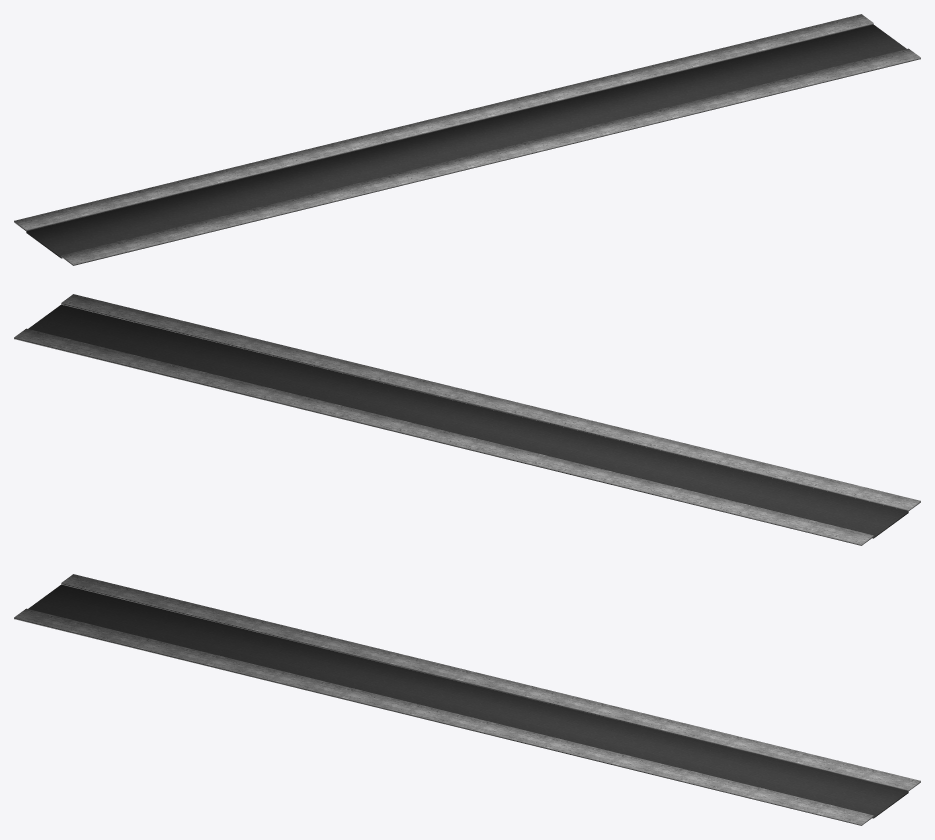
File: avenida.obj
3 views of the same model, one above another, from view 1: azimuth 30°, elevation 25°; view 2: azimuth 150°, elevation 25°; view 3: azimuth 330°, elevation 25° (orthographic).
Visible parts, largest first — view 1: Box002, Box001, Box003; view 2: Box002, Box001, Box003; view 3: Box002, Box001, Box003.
Boxes of the visible parts, <box> form: Box002: <box>26,24,906,258</box>; Box001: <box>14,14,873,231</box>; Box003: <box>61,48,920,265</box>; Box002: <box>28,304,908,538</box>; Box001: <box>14,328,873,545</box>; Box003: <box>61,294,920,511</box>; Box002: <box>28,584,908,818</box>; Box001: <box>61,574,920,791</box>; Box003: <box>14,608,873,825</box>.
Size of the model in its own units: 140 by 0.5 by 16.99.
Materials: 2 (2 with a texture image).
